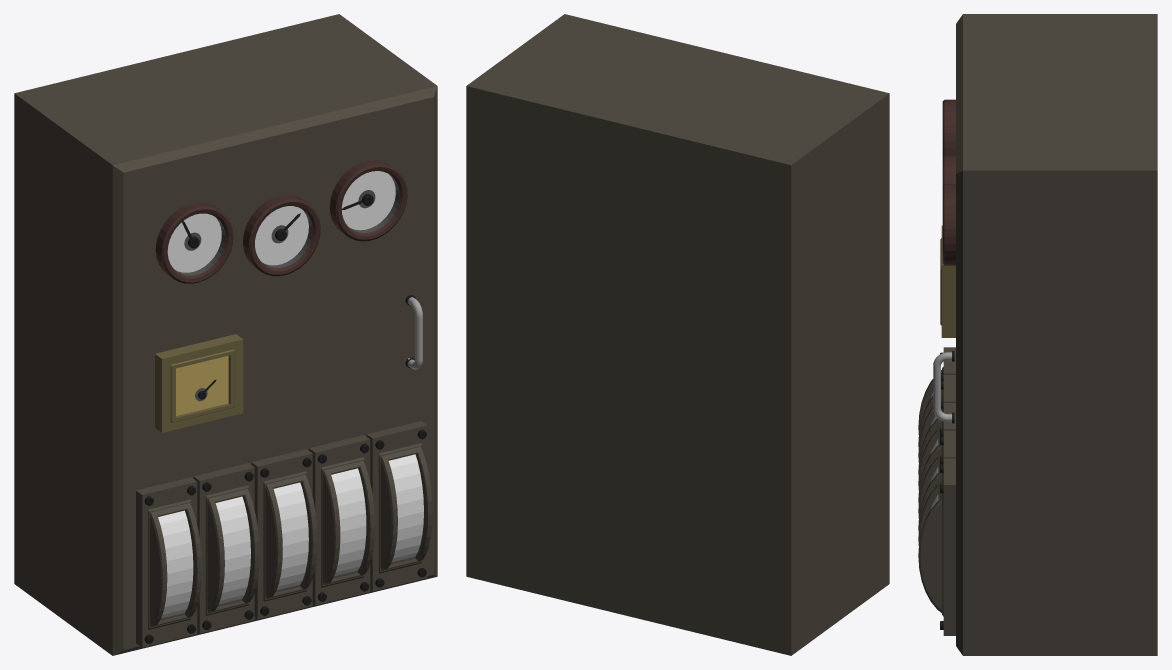
File: wallthing.fbx
The picture shows the model from 3 angles, left to right: view 1: azimuth 30°, elevation 25°; view 2: azimuth 150°, elevation 25°; view 3: azimuth 270°, elevation 25°; orthographic projection.
Parts seen in each view (by area): view 1: WallThingExport; view 2: WallThingExport; view 3: WallThingExport.
Boxes of the visible parts, x1,y1,x2,y2 form: WallThingExport: [14, 14, 437, 655]; WallThingExport: [466, 14, 889, 655]; WallThingExport: [918, 14, 1157, 655].
Bounding box in the file's own units: 92.53 × 133 × 59.64.
